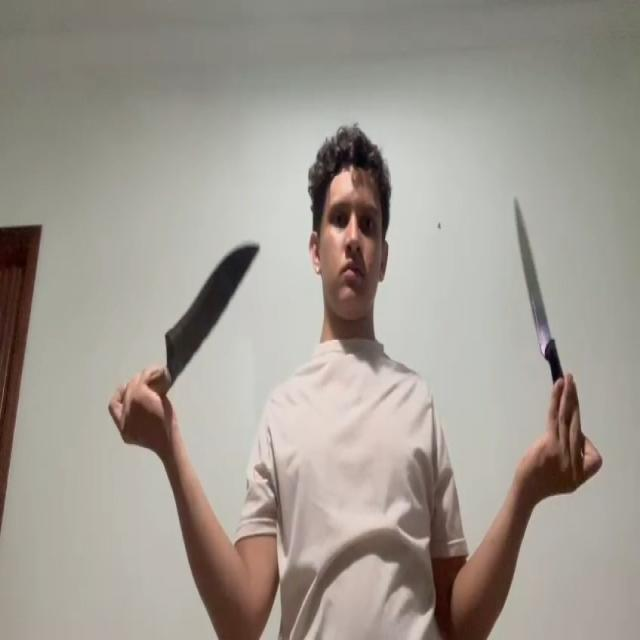knife: (166, 244, 259, 378), (516, 204, 548, 352)
